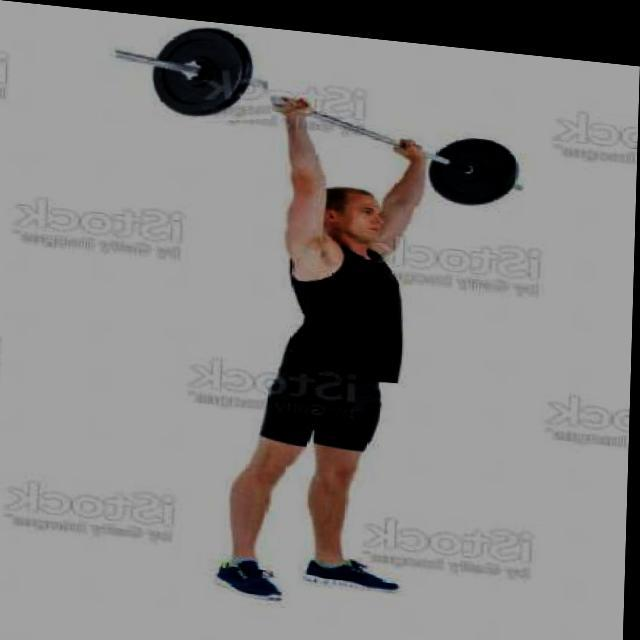barbell: (91, 9, 272, 130)
